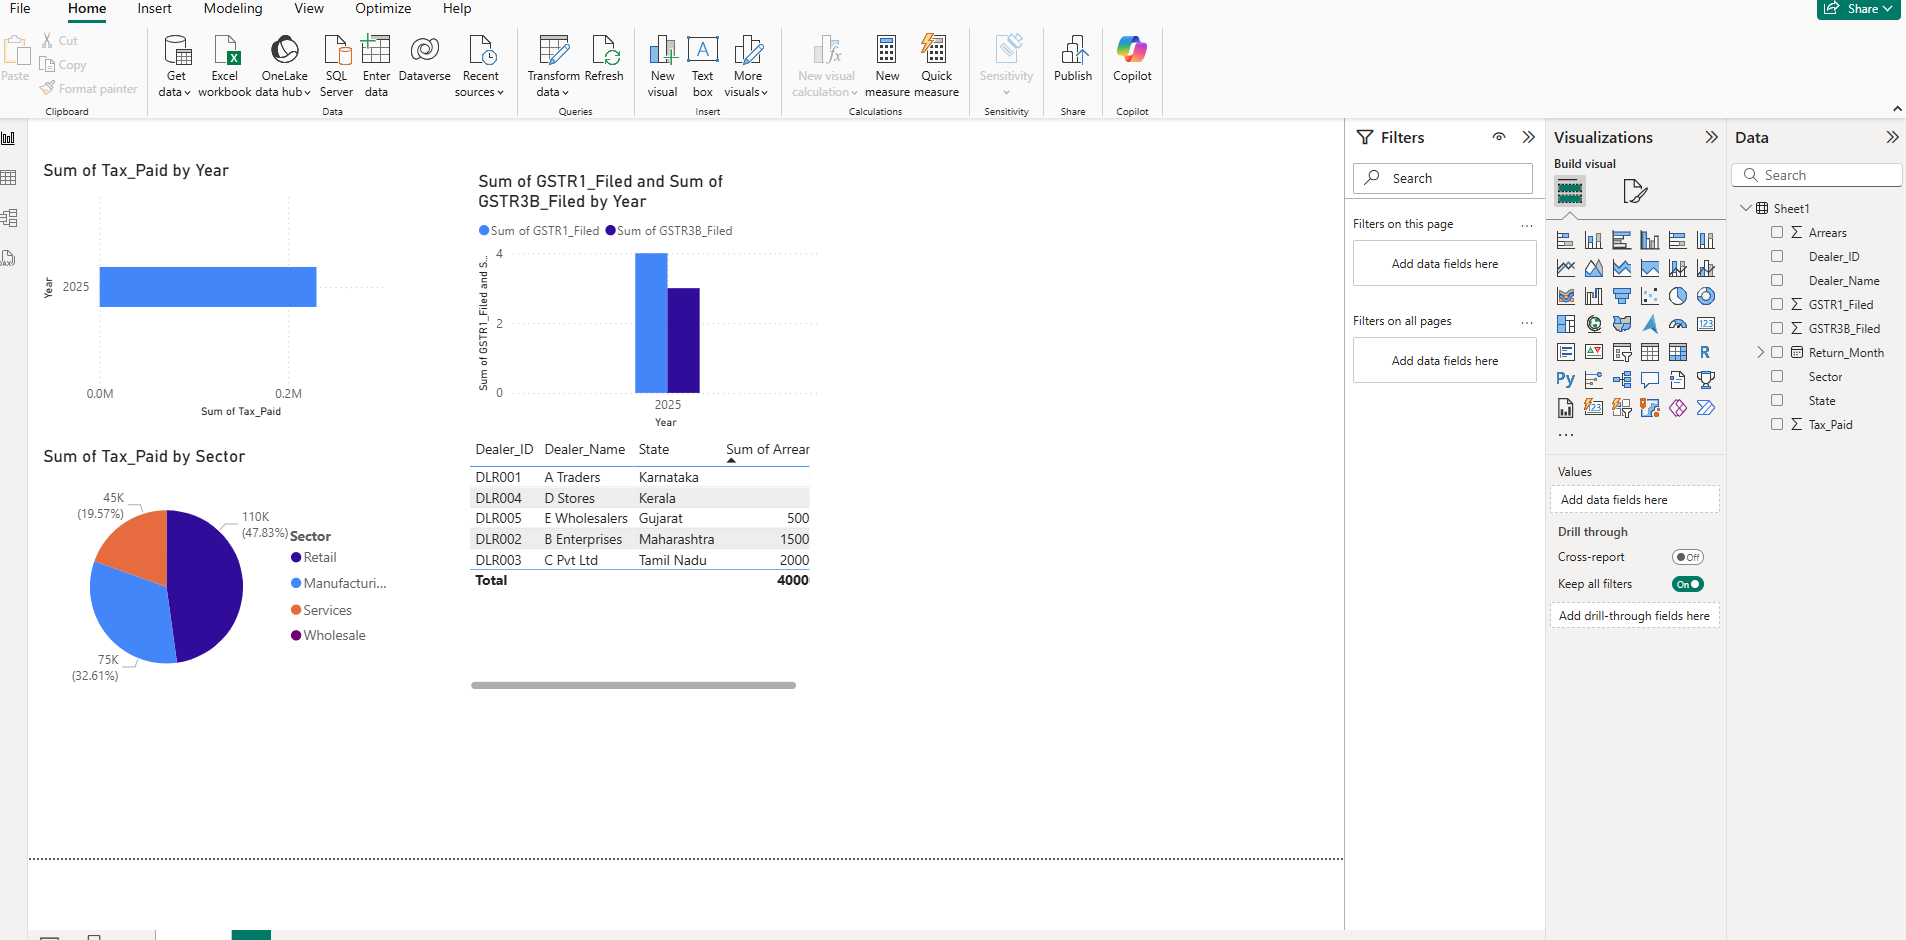

The page's visual inventory and layout, read from the dashboard file:
{"tool":"powerbi","page":{"name":"Page 1","canvas":[1280,720],"ordinal":0},"visuals":[{"type":"barChart","fields":{"Category":["Sheet1.Return_Month.Variation.Date Hierarchy.Year","Sheet1.Return_Month.Variation.Date Hierarchy.Quarter","Sheet1.Return_Month.Variation.Date Hierarchy.Month","Sheet1.Return_Month.Variation.Date Hierarchy.Day"],"Y":["Sum(Sheet1.Tax_Paid)"]},"box":[9.7,40.9,354,254.8],"z":0},{"type":"clusteredColumnChart","fields":{"Category":["Sheet1.Return_Month.Variation.Date Hierarchy.Year","Sheet1.Return_Month.Variation.Date Hierarchy.Quarter","Sheet1.Return_Month.Variation.Date Hierarchy.Month","Sheet1.Return_Month.Variation.Date Hierarchy.Day"],"Y":["Sum(Sheet1.GSTR1_Filed)","Sum(Sheet1.GSTR3B_Filed)"]},"box":[432.8,51.6,341.4,254.8],"z":1},{"type":"pieChart","fields":{"Category":["Sheet1.Sector"],"Y":["Sum(Sheet1.Tax_Paid)"]},"box":[10,319.5,354,255],"z":2},{"type":"tableEx","fields":{"Values":["Sheet1.Dealer_ID","Sheet1.Dealer_Name","Sheet1.State","Sum(Sheet1.Arrears)"]},"box":[424.1,306.4,341.4,254.8],"z":3}]}

Visuals, with their boxes on the page's 1280x720 design canvas (x1, y1, x2, y2). These are canvas units, not pixel positions in the 1906x940 screenshot, which may show the page scaled, cropped or inside an application window:
barChart - Sheet1.Return_Month.Variation.Date Hierarchy.Year x Sheet1.Return_Month.Variation.Date Hierarchy.Quarter: 10, 41, 364, 296
clusteredColumnChart - Sheet1.Return_Month.Variation.Date Hierarchy.Year x Sheet1.Return_Month.Variation.Date Hierarchy.Quarter: 433, 52, 774, 306
pieChart - Sheet1.Sector x Sum(Sheet1.Tax_Paid): 10, 320, 364, 574
tableEx - Sheet1.Dealer_ID x Sheet1.Dealer_Name: 424, 306, 766, 561
